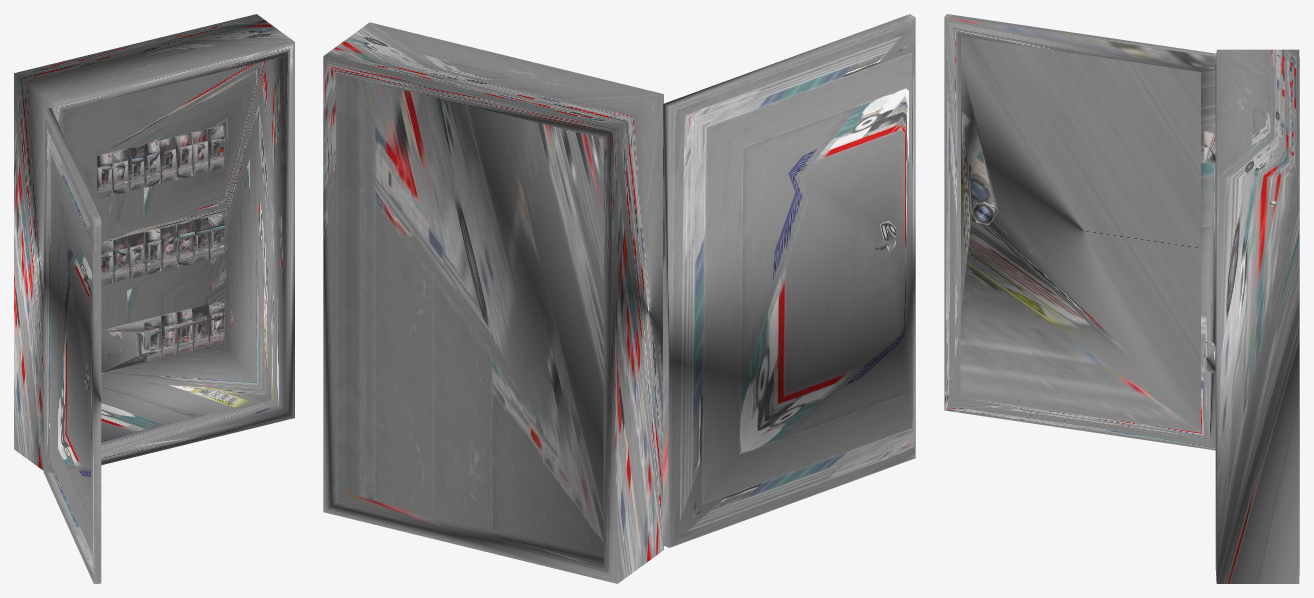
Rendered from ph_power_box.glb.
3 renders of one model, left to right at view 1: azimuth 30°, elevation 25°; view 2: azimuth 150°, elevation 25°; view 3: azimuth 270°, elevation 25°, orthographic. The views are drawn at different scales.
Visible parts, largest first — view 1: power_box_01_box, power_box_01_door; view 2: power_box_01_box, power_box_01_door; view 3: power_box_01_door, power_box_01_box.
Part boxes in pixels (left/top/right/bottom): power_box_01_box: left=14, top=14, right=294, bottom=470; power_box_01_door: left=43, top=108, right=101, bottom=583; power_box_01_box: left=323, top=22, right=663, bottom=583; power_box_01_door: left=663, top=14, right=915, bottom=547; power_box_01_door: left=944, top=14, right=1216, bottom=450; power_box_01_box: left=1215, top=49, right=1299, bottom=583.
Size of the model in its own units: 0.4581 by 0.5031 by 0.399.
Materials: 1 (1 with a texture image).
